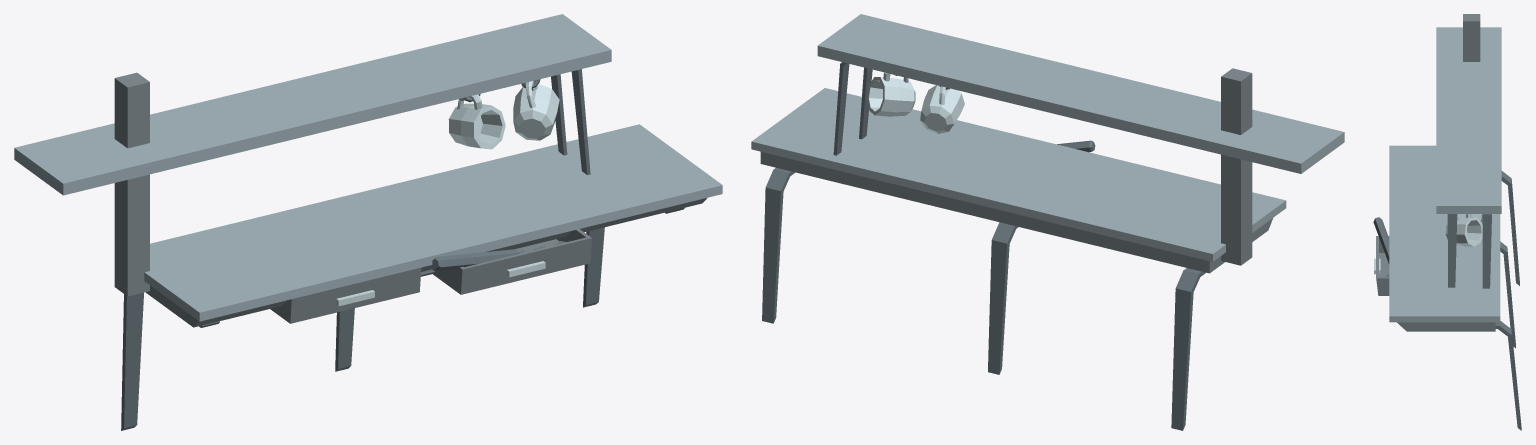
The model's file is wall_slelf.glb.
3 views of the same model, side by side, from view 1: azimuth 30°, elevation 25°; view 2: azimuth 150°, elevation 25°; view 3: azimuth 270°, elevation 25° (orthographic). The views are drawn at different scales.
Visible parts, largest first — view 1: wall_slelf; view 2: wall_slelf; view 3: wall_slelf.
Part boxes in pixels (x1,y1,x2,y2): wall_slelf: [14, 14, 722, 430]; wall_slelf: [751, 14, 1344, 430]; wall_slelf: [1373, 14, 1521, 430].
Size of the model in its own units: 2.22 by 1.3 by 0.6822.
